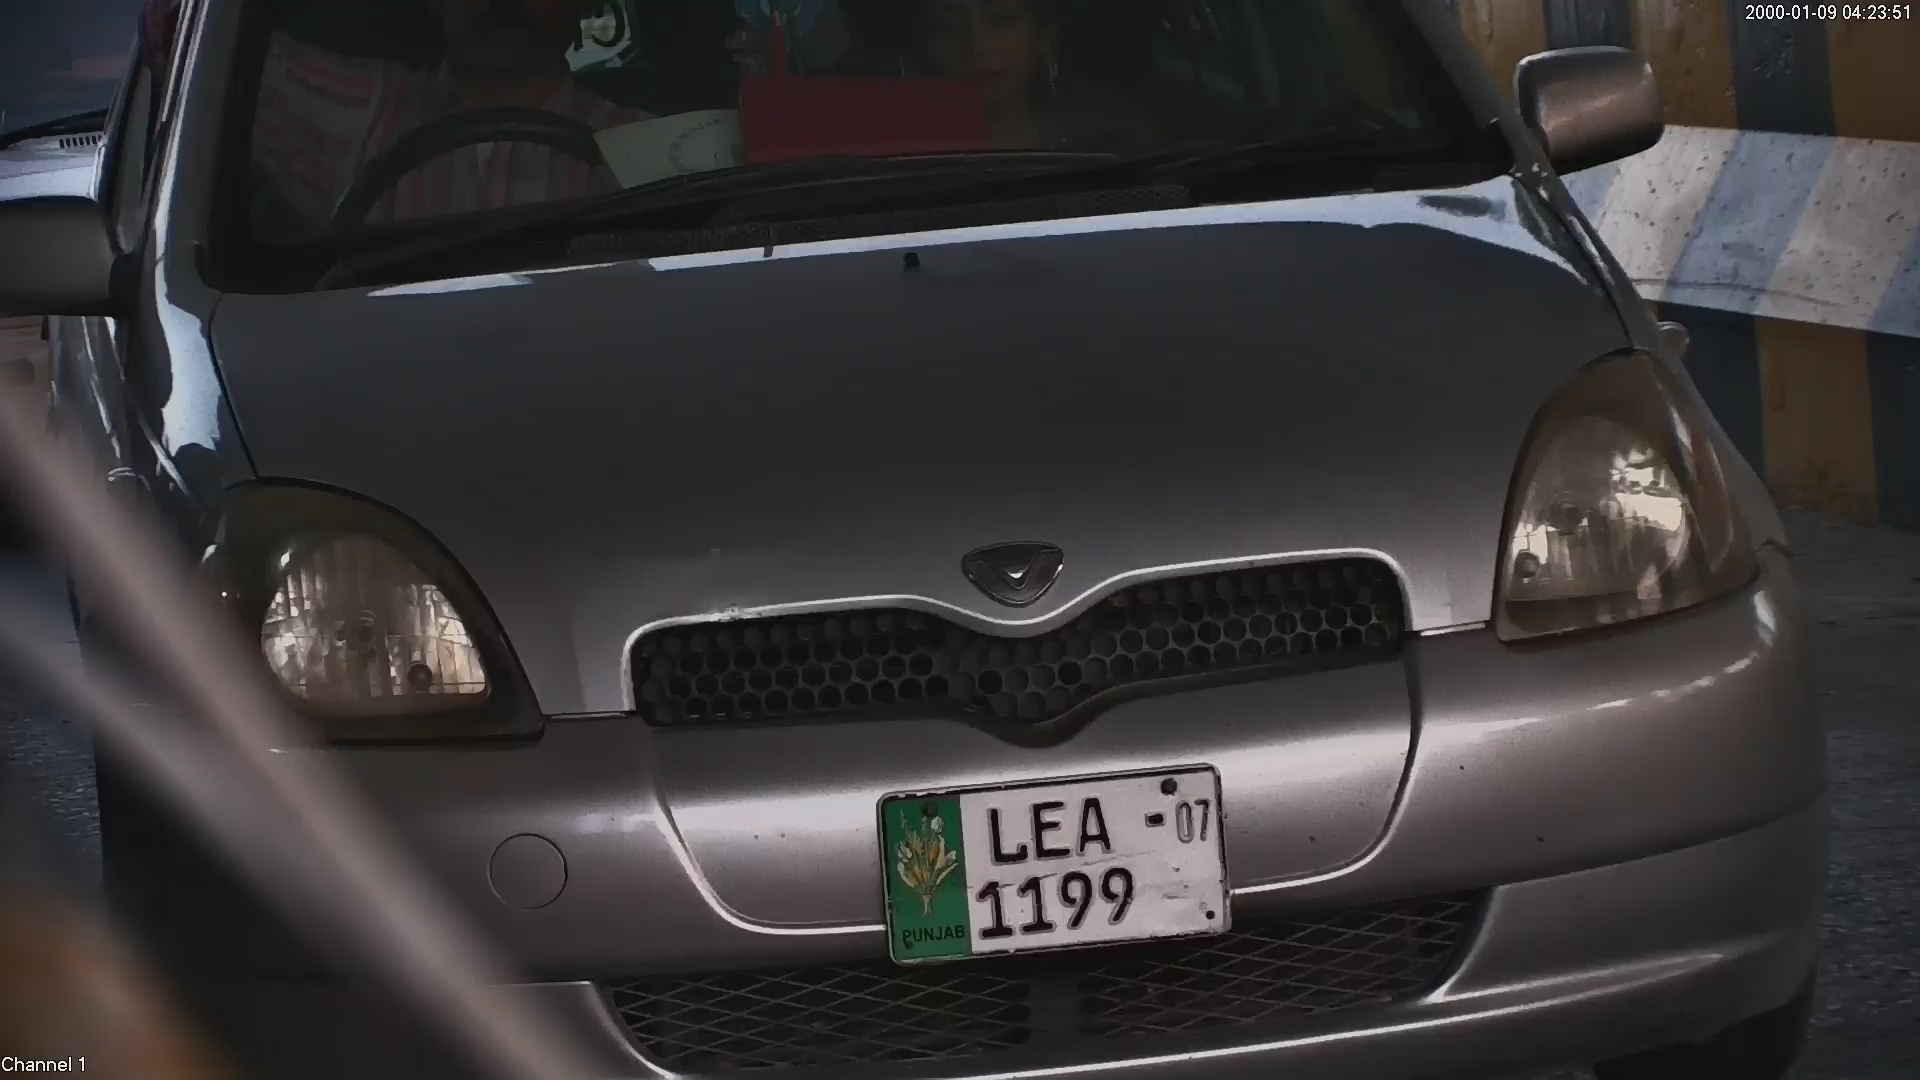Number_Plate: (858, 759, 1243, 962)
